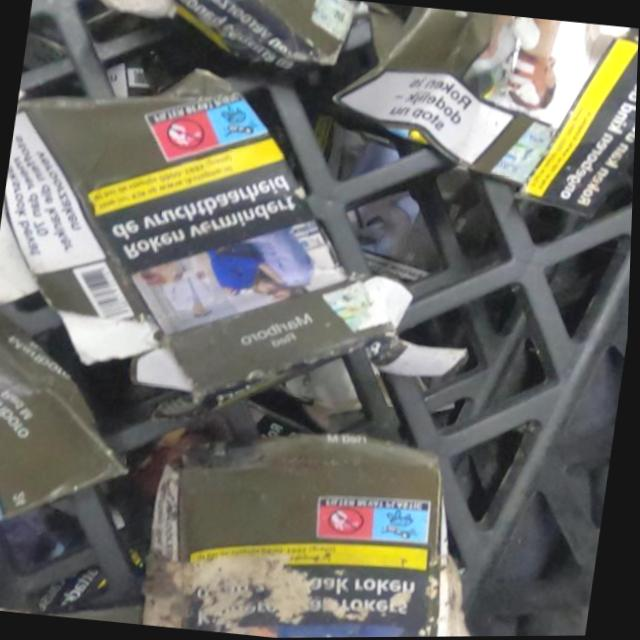Paper: (0, 45, 508, 453), (136, 412, 515, 639), (316, 0, 640, 228), (0, 299, 159, 560), (151, 0, 367, 95)
